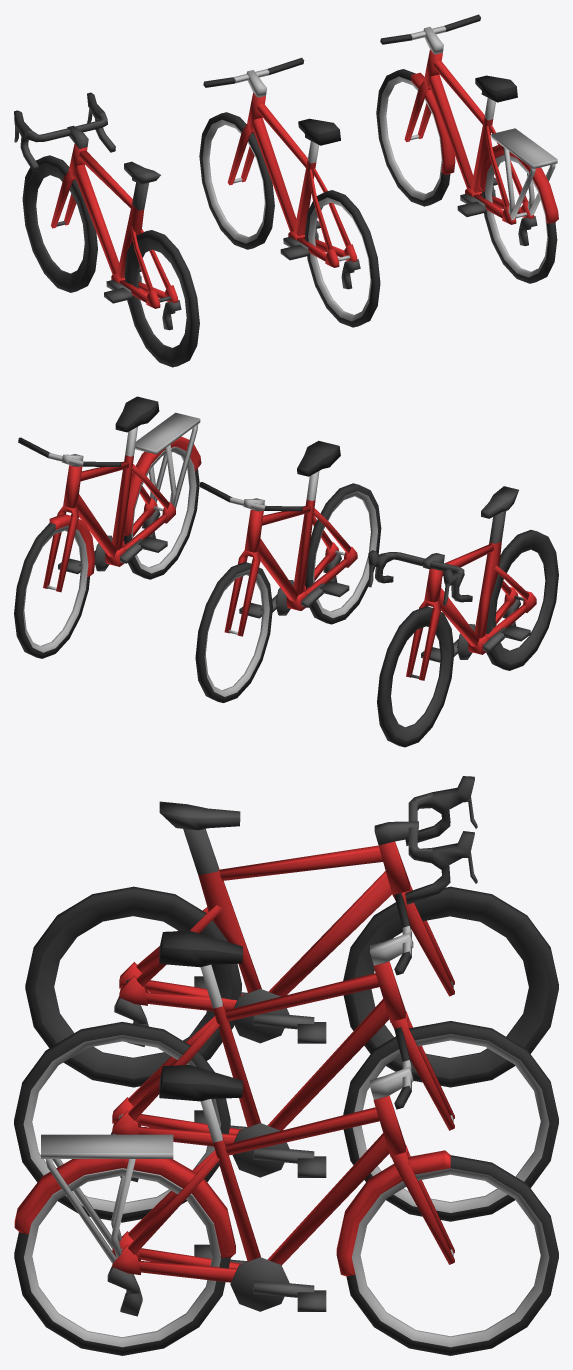
The model's file is ultraLowPoly_bike_pack.obj.
The picture shows the model from 3 angles, top to bottom: view 1: azimuth 30°, elevation 25°; view 2: azimuth 150°, elevation 25°; view 3: azimuth 270°, elevation 25°; orthographic projection. The views are drawn at different scales.
Visible parts, largest first — view 1: bike_road_frame_Cube.038, bike_sport_frame_Cube.004, bike_commuter_frame_Cube.006, bike_road_steerer_Cube.014, front, front.001, pannier_rack.001_Cube.019, tyres_rear_fender.001_Cube.020, tyres_front_fender.001_Cube.021, tyres_rear_Cube.012, tyres_front_Cube.015, cranks_Cube.001 (+2 smaller); view 2: bike_road_frame_Cube.038, bike_road_steerer_Cube.014, bike_sport_frame_Cube.004, bike_commuter_frame_Cube.006, front, front.001, tyres_front_fender.001_Cube.021, pannier_rack.001_Cube.019, tyres_front_Cube.015, tyres_rear_fender.001_Cube.020, tyres_rear_Cube.012, cranks_Cube.001 (+2 smaller); view 3: bike_road_frame_Cube.038, bike_commuter_frame_Cube.006, bike_road_steerer_Cube.014, bike_sport_frame_Cube.004, front.001, tyres_rear_fender.001_Cube.020, tyres_front_fender.001_Cube.021, front, pannier_rack.001_Cube.019, tyres_front_Cube.015, tyres_rear_Cube.012, cranks.001_Cube.016 (+2 smaller).
Part boxes in pixels (x1,y1,x2,y2): bike_road_frame_Cube.038: (68, 143, 199, 367); bike_sport_frame_Cube.004: (247, 92, 371, 321); bike_commuter_frame_Cube.006: (424, 49, 548, 277); bike_road_steerer_Cube.014: (14, 92, 115, 292); front: (202, 57, 304, 243); front.001: (379, 14, 480, 200); pannier_rack.001_Cube.019: (491, 128, 557, 220); tyres_rear_fender.001_Cube.020: (478, 144, 558, 283); tyres_front_fender.001_Cube.021: (376, 69, 455, 206); tyres_rear_Cube.012: (305, 190, 380, 327); tyres_front_Cube.015: (199, 112, 274, 249); cranks_Cube.001: (280, 220, 320, 260); bike_road_frame_Cube.038: (424, 486, 558, 670); bike_road_steerer_Cube.014: (368, 550, 472, 747); bike_sport_frame_Cube.004: (244, 440, 377, 618); bike_commuter_frame_Cube.006: (63, 396, 196, 573); front: (199, 482, 302, 696); front.001: (18, 437, 121, 652); tyres_front_fender.001_Cube.021: (14, 514, 95, 658); pannier_rack.001_Cube.019: (135, 412, 200, 508); tyres_front_Cube.015: (195, 562, 272, 702); tyres_rear_fender.001_Cube.020: (123, 436, 201, 579); tyres_rear_Cube.012: (305, 483, 381, 624); cranks_Cube.001: (239, 580, 349, 618); bike_road_frame_Cube.038: (25, 801, 410, 1087); bike_commuter_frame_Cube.006: (23, 1065, 405, 1347); bike_road_steerer_Cube.014: (343, 776, 558, 1087); bike_sport_frame_Cube.004: (23, 930, 405, 1213); front.001: (352, 1027, 549, 1347); tyres_rear_fender.001_Cube.020: (14, 1159, 235, 1355); tyres_front_fender.001_Cube.021: (336, 1150, 558, 1355); front: (352, 893, 549, 1212); pannier_rack.001_Cube.019: (41, 1134, 173, 1263); tyres_front_Cube.015: (343, 1021, 558, 1221); tyres_rear_Cube.012: (14, 1022, 230, 1222); cranks.001_Cube.016: (194, 1244, 326, 1311).
Bounding box in the file's own units: 2.51 × 1.01 × 1.72.
1 material, 1 textured.
